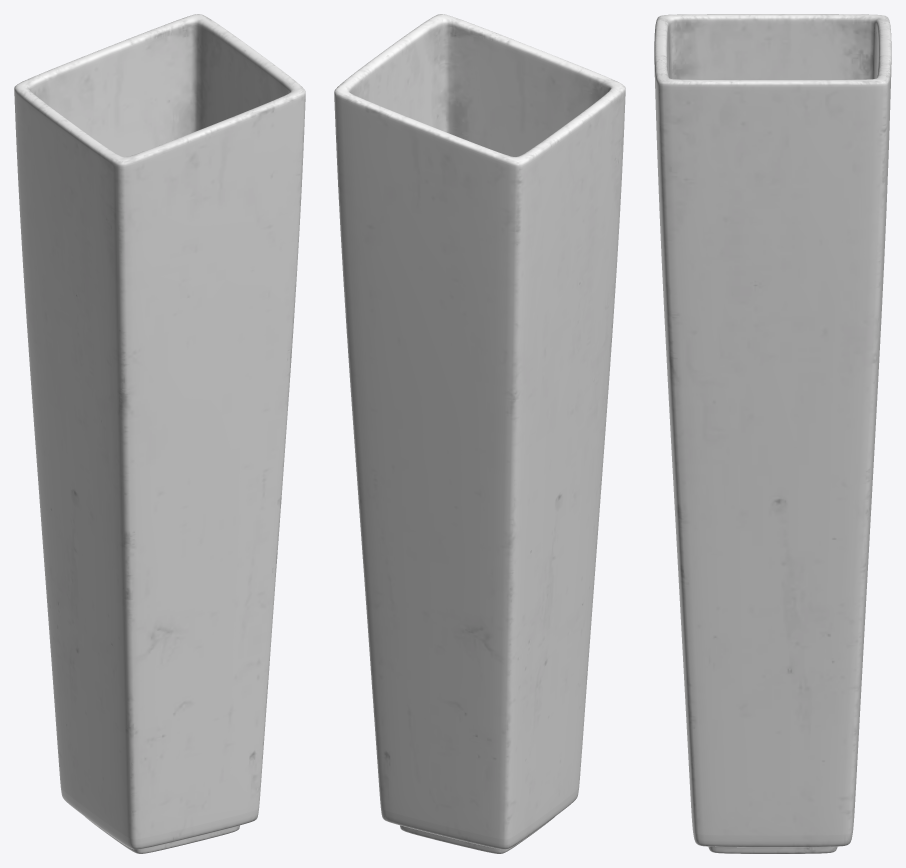
The model's file is vase.glb.
3 renders of one model, left to right at view 1: azimuth 30°, elevation 25°; view 2: azimuth 150°, elevation 25°; view 3: azimuth 270°, elevation 25°, orthographic. The views are drawn at different scales.
Visible parts, largest first — view 1: ceramic_vase_03; view 2: ceramic_vase_03; view 3: ceramic_vase_03.
Boxes of the visible parts, box(x1,y1,x2,y2) form: ceramic_vase_03: box(14, 14, 305, 853); ceramic_vase_03: box(334, 14, 625, 853); ceramic_vase_03: box(654, 14, 891, 853).
Bounding box in the file's own units: 0.1123 × 0.4144 × 0.1123.
1 material, 1 textured.
